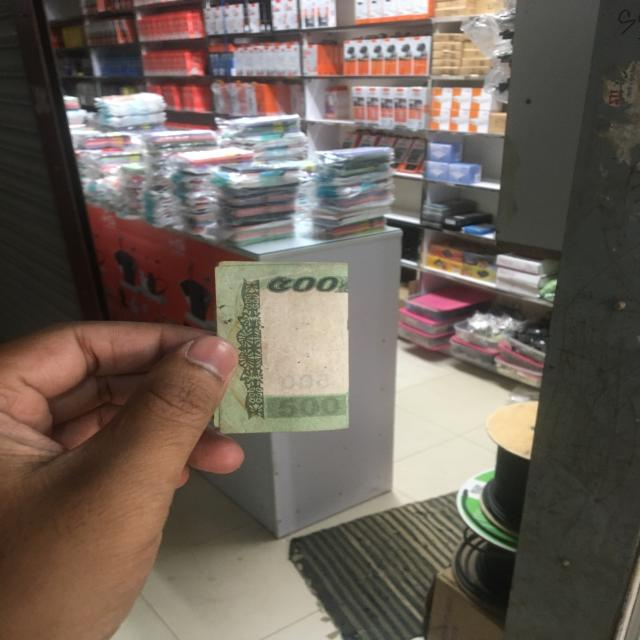Taka: (217, 258, 348, 428)
